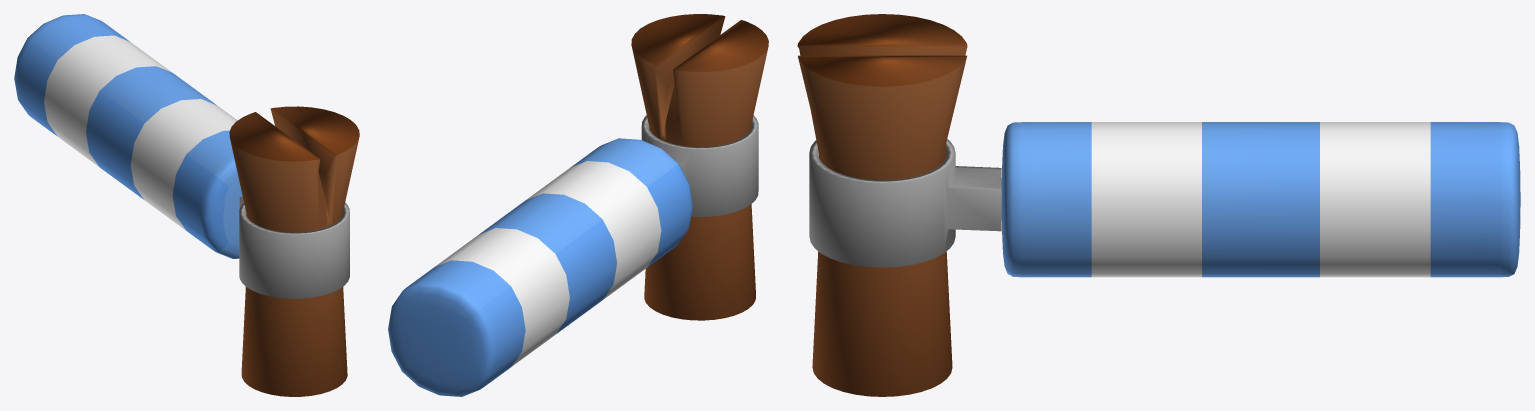
The model's file is trap_trapcircleblue.glb.
3 renders of one model, left to right at view 1: azimuth 30°, elevation 25°; view 2: azimuth 150°, elevation 25°; view 3: azimuth 270°, elevation 25°, orthographic. The views are drawn at different scales.
Parts seen in each view (by area): view 1: Cylinder.023_visual, Cylinder.022_visual; view 2: Cylinder.023_visual, Cylinder.022_visual; view 3: Cylinder.023_visual, Cylinder.022_visual.
Part boxes in pixels (x1,y1,x2,y2): Cylinder.023_visual: (14,14,349,298); Cylinder.022_visual: (229,106,359,396); Cylinder.023_visual: (388,115,758,396); Cylinder.022_visual: (631,14,768,320); Cylinder.023_visual: (809,122,1520,277); Cylinder.022_visual: (797,14,967,396).
Size of what is drawn, in the model's own units: 0.41 by 0.8222 by 1.7.
Materials: 1 (1 with a texture image).
